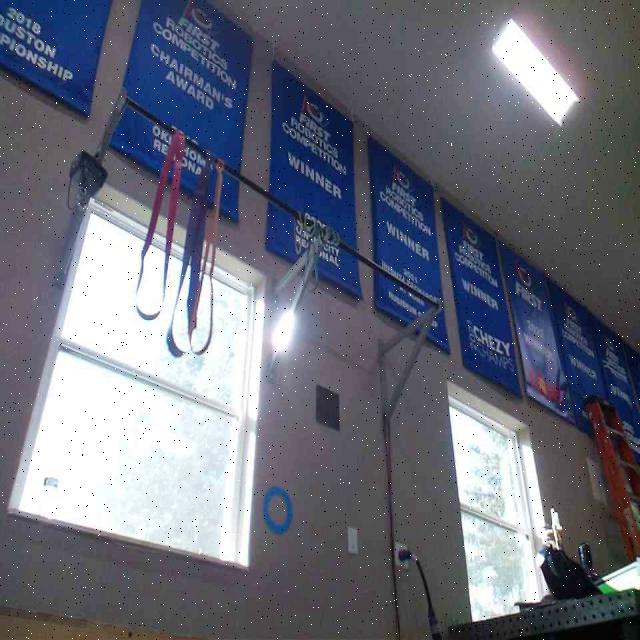ring_blue: (262, 485, 293, 535)
square_black: (316, 385, 340, 430)
